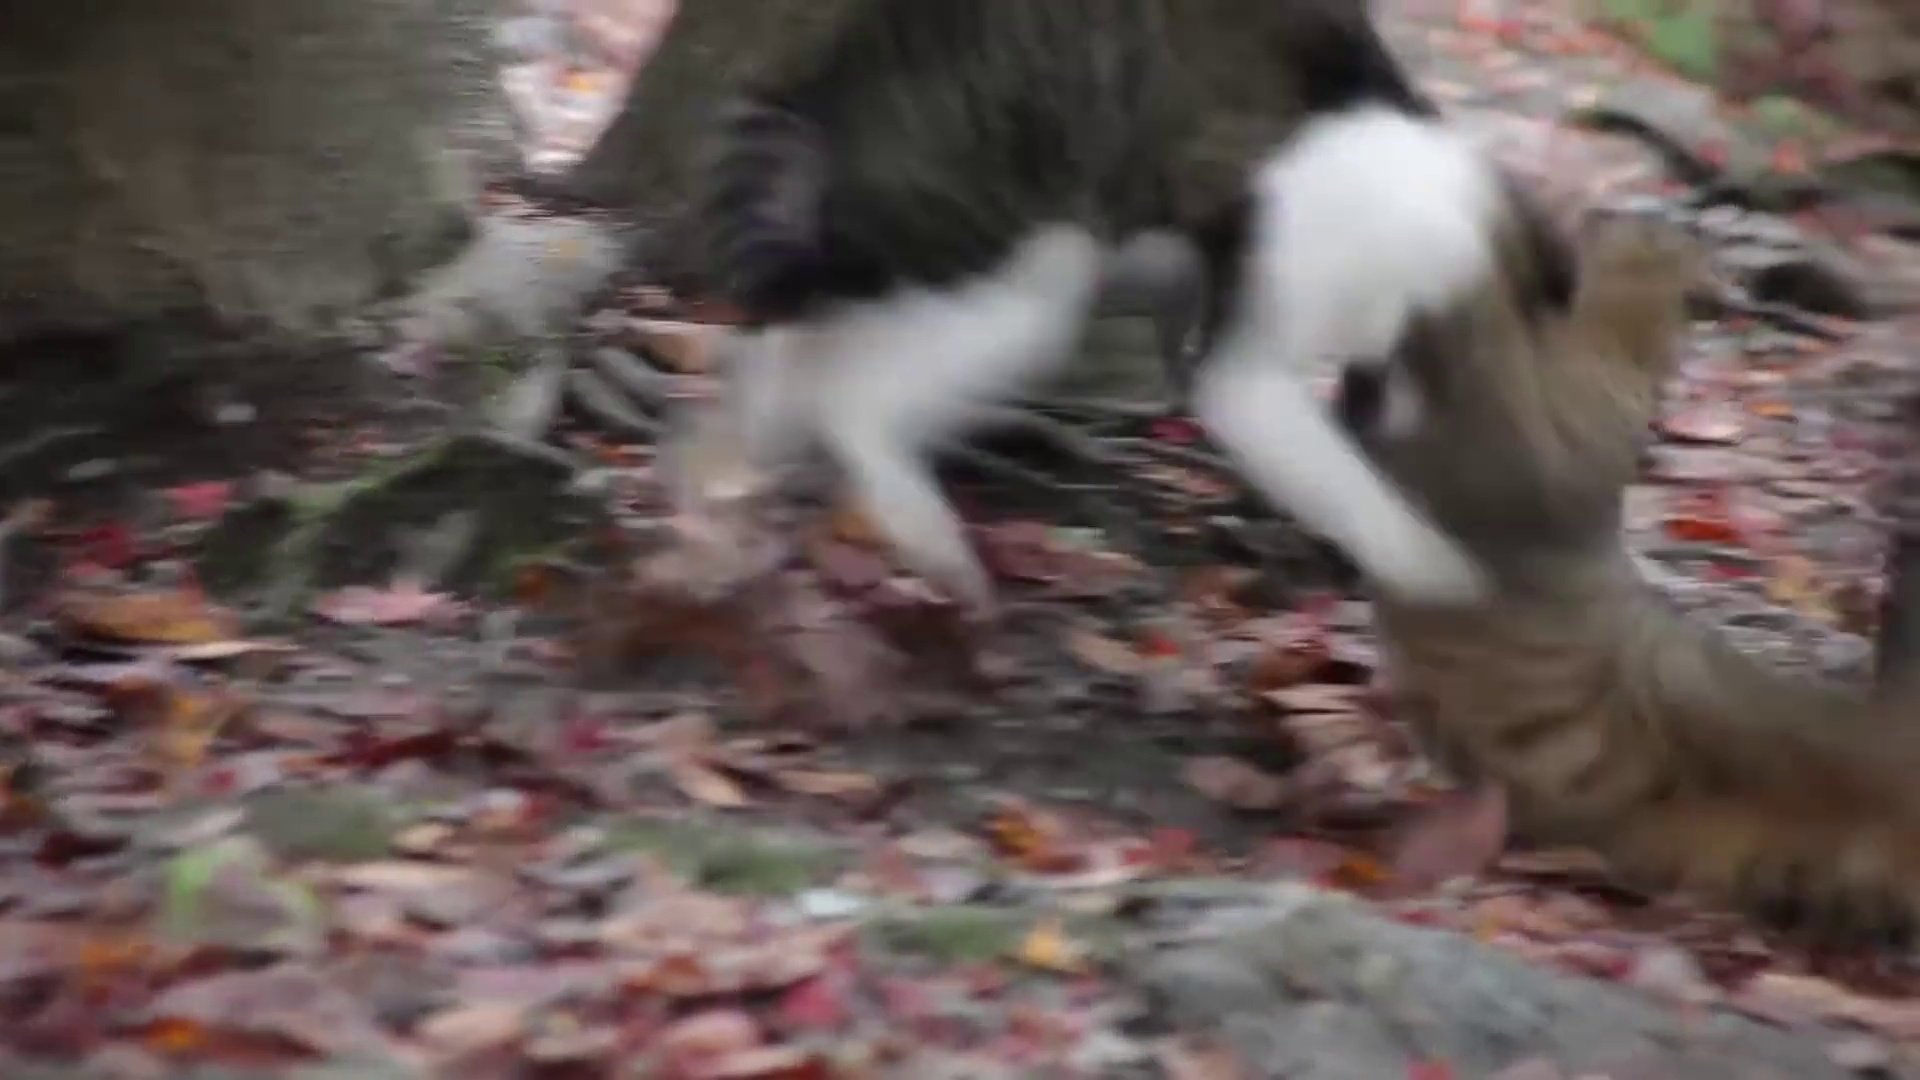black-white: (781, 5, 1536, 607)
pure black: (1391, 220, 1920, 931)
